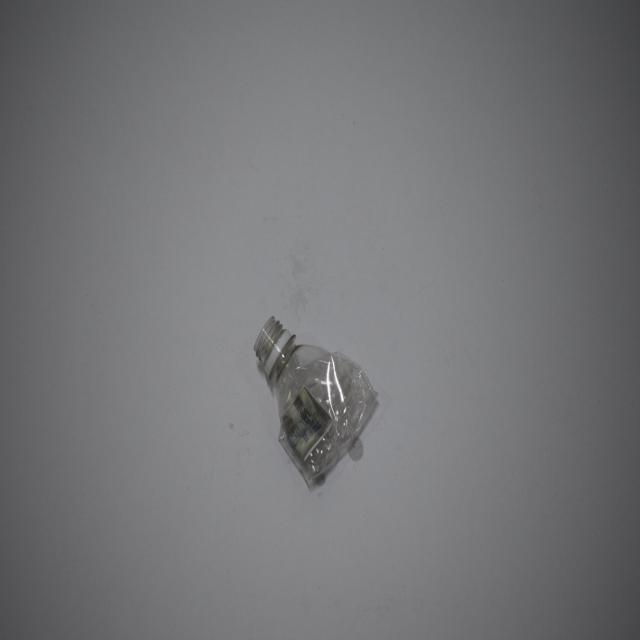bottle: (238, 304, 392, 500)
